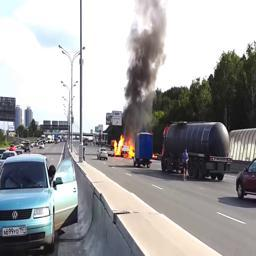fire: (113, 135, 135, 158)
